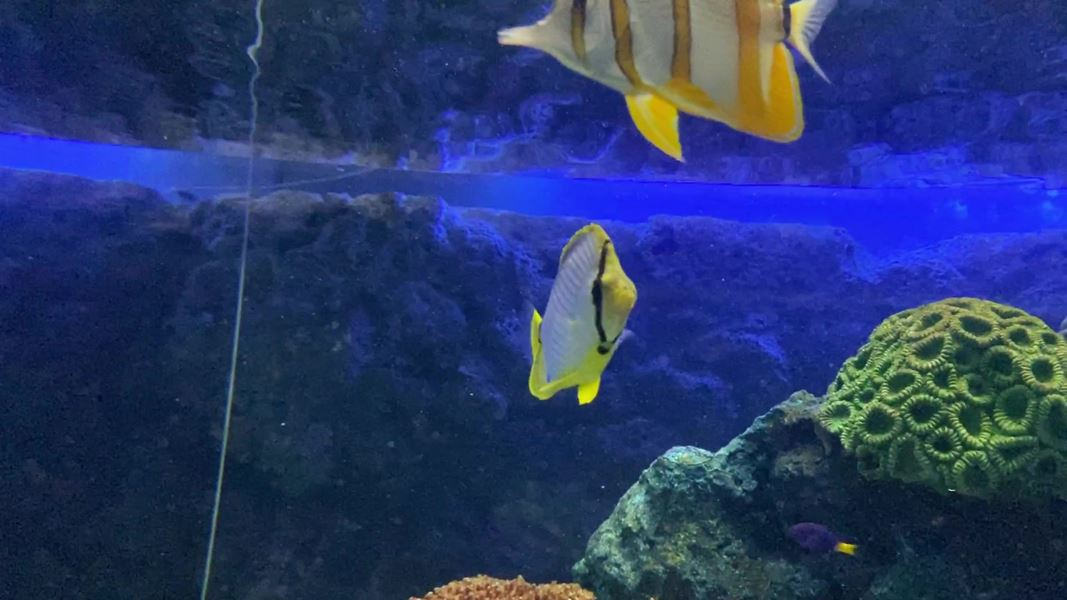Black-backed butterflyfish: (503, 214, 652, 414)
